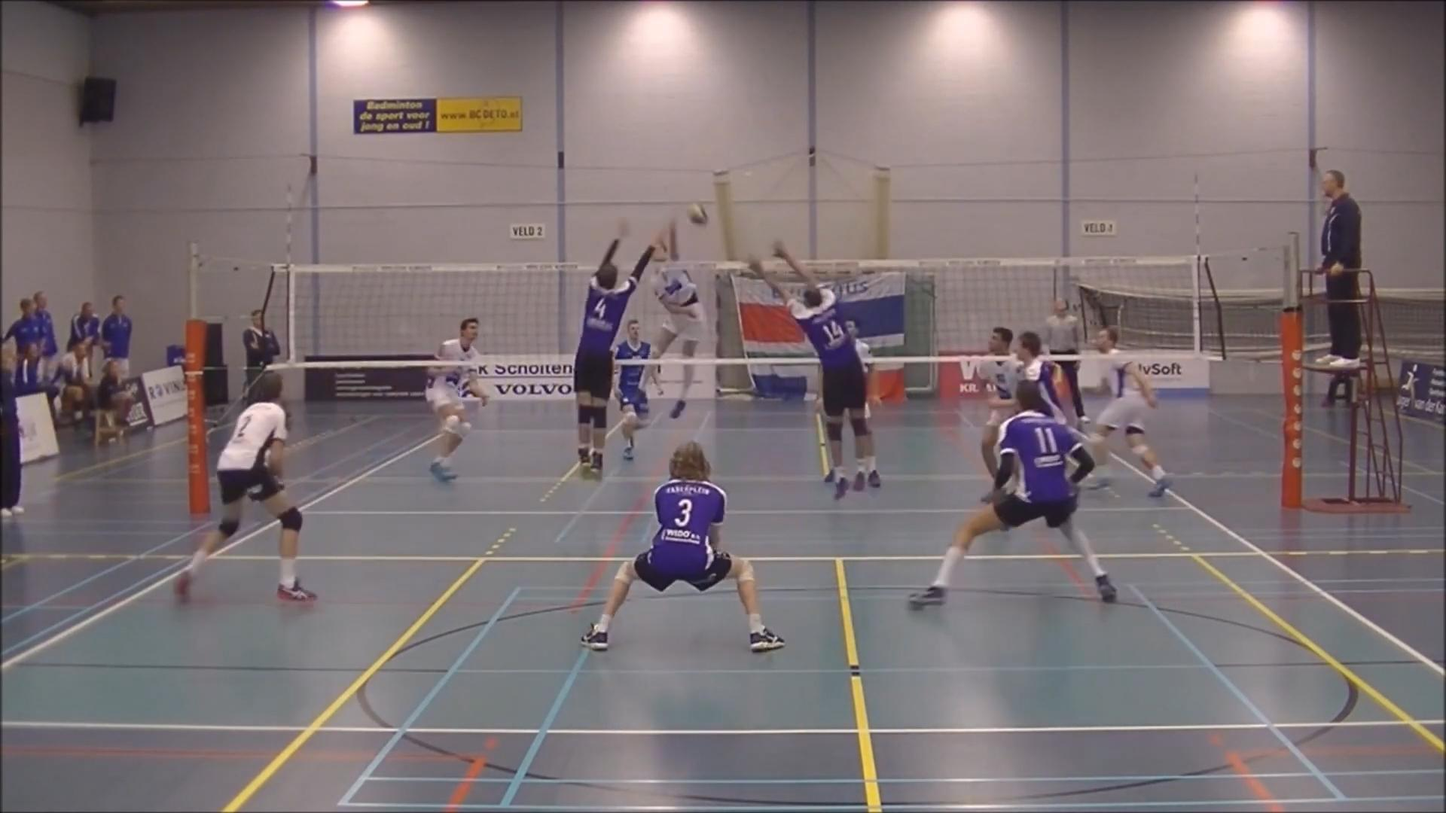Attack: (625, 233, 709, 429)
Block: (712, 229, 901, 497), (563, 223, 674, 485)
Player: (910, 382, 1115, 607), (581, 442, 784, 651), (174, 373, 316, 601), (1088, 327, 1171, 497), (425, 318, 487, 482), (981, 327, 1020, 477), (1015, 331, 1071, 425), (617, 364, 661, 460), (845, 320, 880, 419)
ball: (685, 198, 711, 229)
